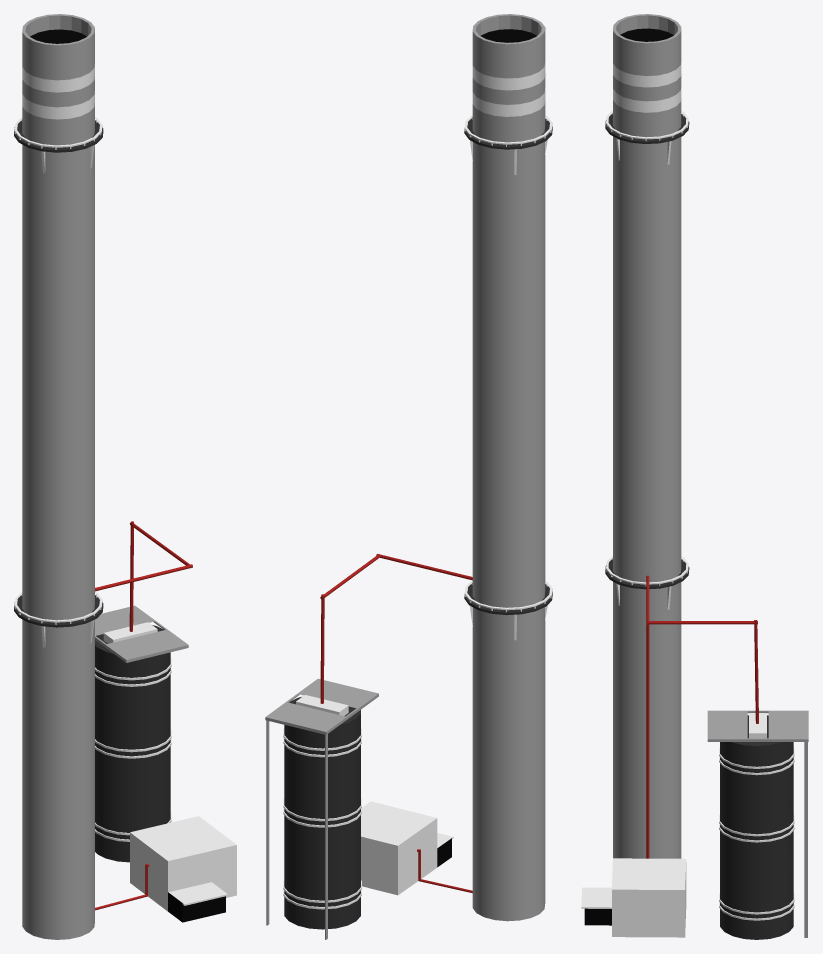
File: Gas Plant 1.FBX
3 renders of one model, left to right at view 1: azimuth 30°, elevation 25°; view 2: azimuth 150°, elevation 25°; view 3: azimuth 270°, elevation 25°, orthographic. The views are drawn at different scales.
Parts seen in each view (by area): view 1: Cylinder015; view 2: Cylinder015; view 3: Cylinder015.
Boxes of the visible parts, bbox=[...] form: Cylinder015: bbox=[14, 14, 236, 939]; Cylinder015: bbox=[265, 14, 552, 939]; Cylinder015: bbox=[581, 14, 808, 939].
Size of the model in its own units: 20.23 by 84.07 by 20.64.
